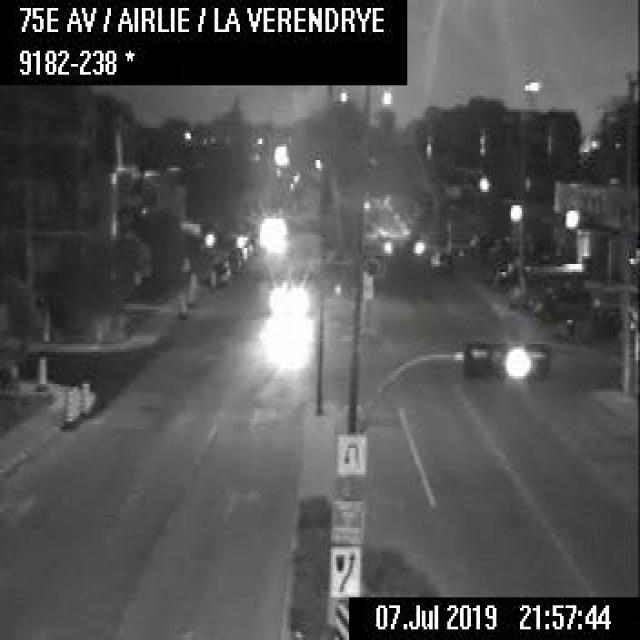construction: (61, 384, 72, 426), (34, 352, 46, 387), (79, 380, 90, 416), (186, 270, 196, 306), (70, 382, 78, 418), (208, 261, 216, 288), (178, 292, 186, 314)
vehicle: (533, 286, 590, 319), (587, 300, 636, 336), (269, 282, 299, 317), (372, 227, 394, 253), (430, 250, 453, 272), (213, 258, 232, 280), (411, 235, 430, 255), (224, 248, 241, 268)
